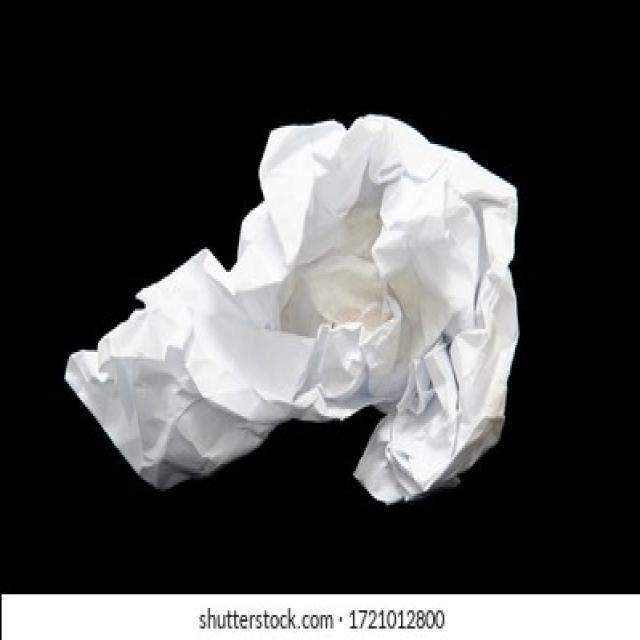Paper: (64, 114, 521, 514)
